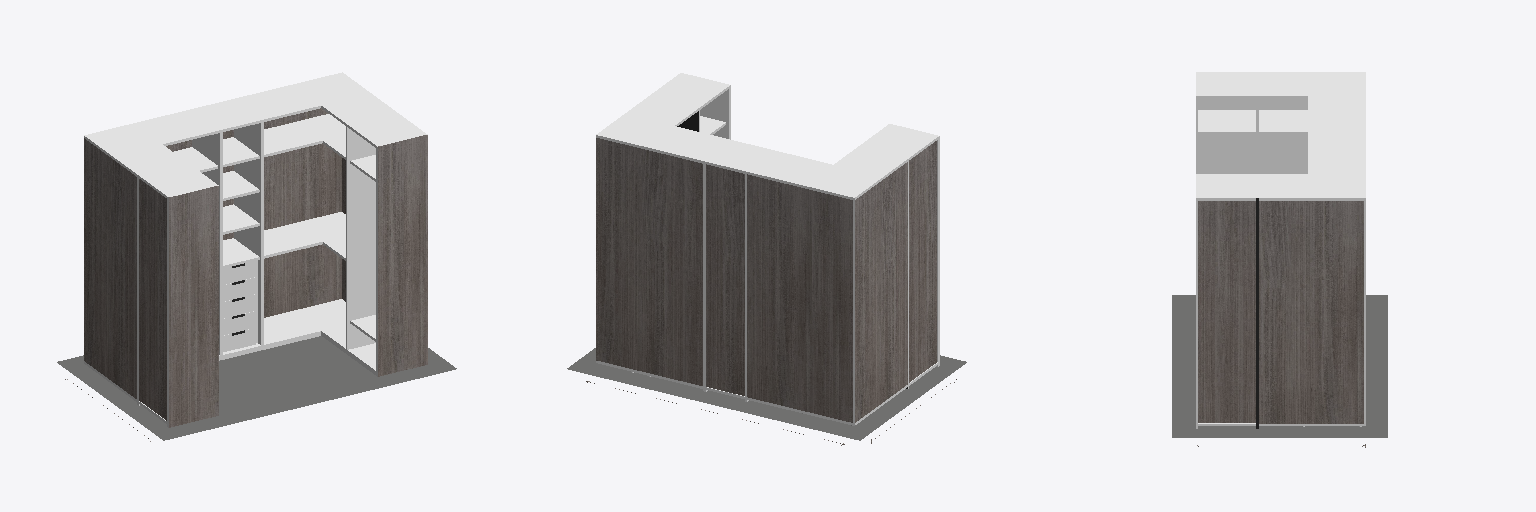
3 views of the same model, side by side, from view 1: azimuth 30°, elevation 25°; view 2: azimuth 150°, elevation 25°; view 3: azimuth 270°, elevation 25° (orthographic).
Visible parts, largest first — view 1: Mesh5 D1_SC_DXF1 Model, Mesh103 D1_SC_DXF1 Model, Mesh1 D1_SC_DXF1 Model, Mesh27 D1_SC_DXF1 Model, Mesh67 D1_SC_DXF1 Model, Mesh109 D1_SC_DXF1 Model, Mesh6 D1_SC_DXF1 Model, Mesh110 D1_SC_DXF1 Model, Mesh60 D1_SC_DXF1 Model, Mesh82 D1_SC_DXF1 Model, Mesh73 D1_SC_DXF1 Model, Mesh83 D1_SC_DXF1 Model (+6 smaller); view 2: Mesh27 D1_SC_DXF1 Model, Mesh67 D1_SC_DXF1 Model, Mesh5 D1_SC_DXF1 Model, Mesh53 D1_SC_DXF1 Model, Mesh6 D1_SC_DXF1 Model, Mesh110 D1_SC_DXF1 Model, Mesh109 D1_SC_DXF1 Model, Mesh103 D1_SC_DXF1 Model, Mesh1 D1_SC_DXF1 Model; view 3: Mesh67 D1_SC_DXF1 Model, Mesh5 D1_SC_DXF1 Model, Mesh94 D1_SC_DXF1 Model, Mesh110 D1_SC_DXF1 Model, Mesh6 D1_SC_DXF1 Model, Mesh27 D1_SC_DXF1 Model, Mesh10 D1_SC_DXF1 Model, Mesh109 D1_SC_DXF1 Model, Mesh33 D1_SC_DXF1 Model.
Part boxes in pixels (x1,y1,x2,y2): Mesh5 D1_SC_DXF1 Model: (84,72,425,405); Mesh103 D1_SC_DXF1 Model: (376,134,427,376); Mesh1 D1_SC_DXF1 Model: (167,185,218,427); Mesh27 D1_SC_DXF1 Model: (84,138,191,398); Mesh67 D1_SC_DXF1 Model: (264,108,345,317); Mesh109 D1_SC_DXF1 Model: (83,336,429,429); Mesh6 D1_SC_DXF1 Model: (139,179,166,420); Mesh110 D1_SC_DXF1 Model: (57,348,456,440); Mesh60 D1_SC_DXF1 Model: (264,299,345,347); Mesh82 D1_SC_DXF1 Model: (264,223,322,258); Mesh73 D1_SC_DXF1 Model: (264,122,322,156); Mesh83 D1_SC_DXF1 Model: (297,212,345,260); Mesh27 D1_SC_DXF1 Model: (747,162,907,422); Mesh67 D1_SC_DXF1 Model: (596,138,702,385); Mesh5 D1_SC_DXF1 Model: (596,74,937,401); Mesh53 D1_SC_DXF1 Model: (706,164,744,395); Mesh6 D1_SC_DXF1 Model: (909,141,936,382); Mesh110 D1_SC_DXF1 Model: (567,348,966,440); Mesh109 D1_SC_DXF1 Model: (594,363,940,429); Mesh103 D1_SC_DXF1 Model: (680,73,730,139); Mesh1 D1_SC_DXF1 Model: (888,124,939,366); Mesh67 D1_SC_DXF1 Model: (1259,201,1365,423); Mesh5 D1_SC_DXF1 Model: (1198,72,1365,428); Mesh94 D1_SC_DXF1 Model: (1198,201,1255,422); Mesh110 D1_SC_DXF1 Model: (1172,295,1387,437); Mesh6 D1_SC_DXF1 Model: (1198,99,1255,173); Mesh27 D1_SC_DXF1 Model: (1259,99,1307,173); Mesh10 D1_SC_DXF1 Model: (1198,110,1255,134); Mesh109 D1_SC_DXF1 Model: (1192,303,1367,429); Mesh33 D1_SC_DXF1 Model: (1259,110,1307,134).
Bounding box in the file's own units: 139 × 109 × 87.64.
Materials: 7 (1 with a texture image).